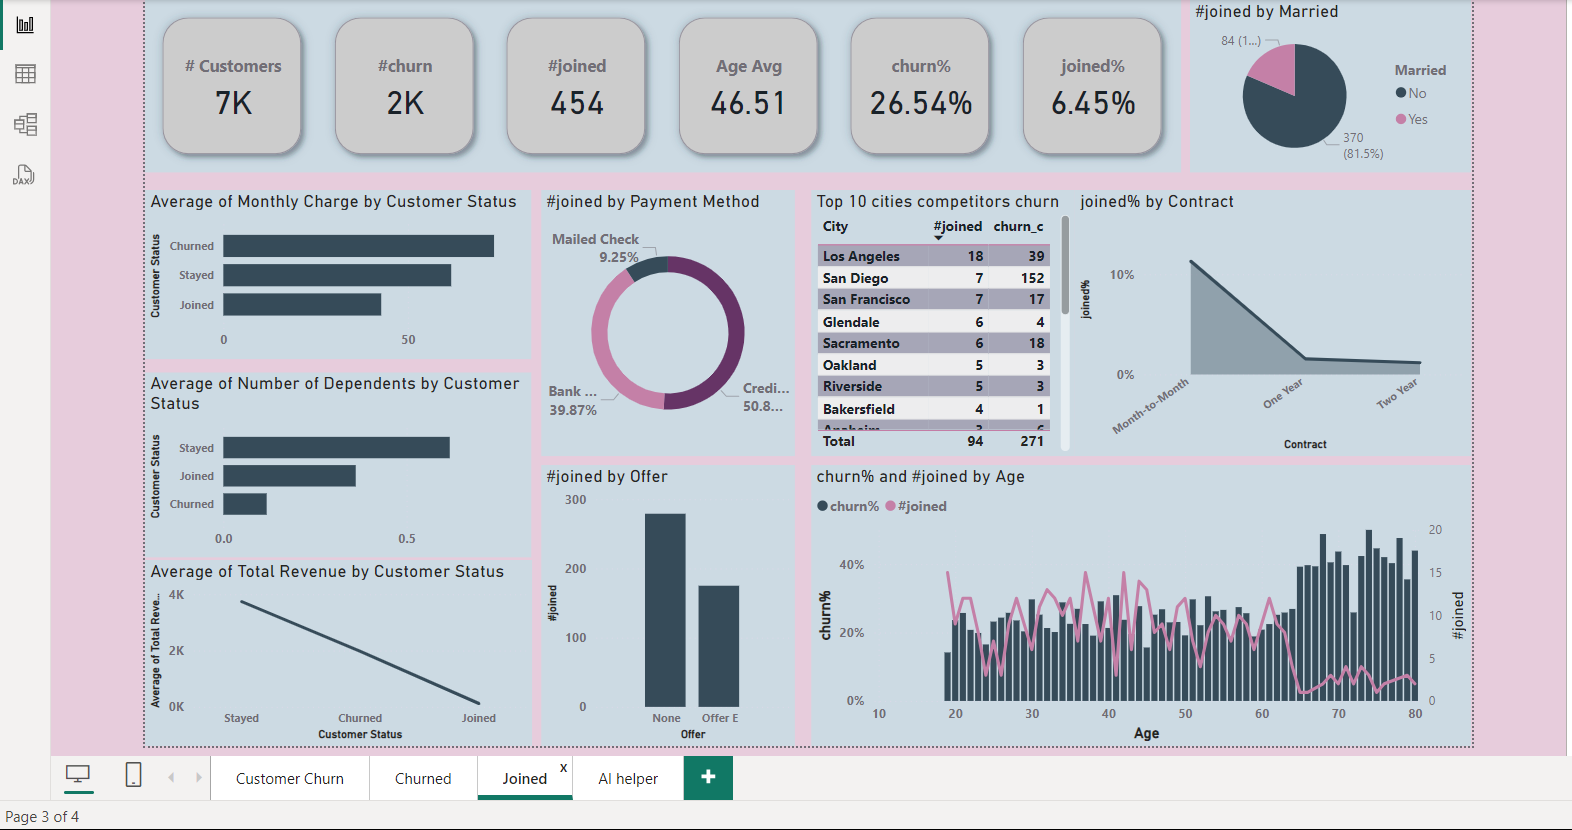

Layout of this report page (visuals, bound fields, positions):
{"tool":"powerbi","page":{"name":"Joined","canvas":[1280,720],"ordinal":2},"visuals":[{"type":"lineClusteredColumnComboChart","fields":{"Category":["telecom_customer_churn.Age"],"Y":[" measures.churn%"],"Y2":[" measures.#joined"]},"box":[643,448.8,637,271.4],"z":0},{"type":"pieChart","fields":{"Y":[" measures.#joined"],"Category":["telecom_customer_churn.Married"]},"box":[1008.6,0,271.4,166.5],"z":1000},{"type":"areaChart","fields":{"Category":["telecom_customer_churn.Contract"],"Y":[" measures.joined%"]},"box":[897.6,183.4,382.4,257],"z":2000},{"type":"clusteredBarChart","fields":{"Category":["telecom_customer_churn.Customer Status"],"Y":["Avg(telecom_customer_churn.Number of Dependents)"]},"box":[0,359.5,372.8,178.6],"z":3000},{"type":"donutChart","fields":{"Y":[" measures.#joined"],"Category":["telecom_customer_churn.Payment Method"]},"box":[382.4,183.4,244.9,257],"z":4000},{"type":"clusteredBarChart","fields":{"Category":["telecom_customer_churn.Customer Status"],"Y":["Avg(telecom_customer_churn.Monthly Charge)"]},"box":[0,183.4,372.8,162.9],"z":5000},{"type":"lineChart","fields":{"Y":["Avg(telecom_customer_churn.Total Revenue)"],"Category":["telecom_customer_churn.Customer Status"]},"box":[0,540.7,373.2,179.8],"z":6000},{"type":"cardVisual","fields":{"Data":[" measures.# Customer"," measures.#churn"," measures.#joined"," measures.Age Avg"," measures.churn%"," measures.joined%"]},"box":[0,0,1000.1,166.5],"z":7000},{"type":"tableEx","title":"Top 10 cities competitors churn","fields":{"Values":["telecom_customer_churn.City"," measures.#joined"," measures.churn_c"]},"box":[643,183.4,254.6,257],"z":8000},{"type":"clusteredColumnChart","fields":{"Y":[" measures.#joined"],"Category":["telecom_customer_churn.Offer"]},"box":[382.4,448.8,244.9,271.4],"z":9000}]}

Visuals, with their boxes on the page's 1280x720 design canvas (x1, y1, x2, y2). These are canvas units, not pixel positions in the 1572x830 screenshot, which may show the page scaled, cropped or inside an application window:
lineClusteredColumnComboChart - telecom_customer_churn.Age x  measures.churn%: crop(643, 449, 1280, 720)
pieChart -  measures.#joined x telecom_customer_churn.Married: crop(1009, 0, 1280, 166)
areaChart - telecom_customer_churn.Contract x  measures.joined%: crop(898, 183, 1280, 440)
clusteredBarChart - telecom_customer_churn.Customer Status x Avg(telecom_customer_churn.Number of Dependents): crop(0, 360, 373, 538)
donutChart -  measures.#joined x telecom_customer_churn.Payment Method: crop(382, 183, 627, 440)
clusteredBarChart - telecom_customer_churn.Customer Status x Avg(telecom_customer_churn.Monthly Charge): crop(0, 183, 373, 346)
lineChart - Avg(telecom_customer_churn.Total Revenue) x telecom_customer_churn.Customer Status: crop(0, 541, 373, 720)
cardVisual -  measures.# Customer x  measures.#churn: crop(0, 0, 1000, 166)
"Top 10 cities competitors churn" tableEx: crop(643, 183, 898, 440)
clusteredColumnChart -  measures.#joined x telecom_customer_churn.Offer: crop(382, 449, 627, 720)
